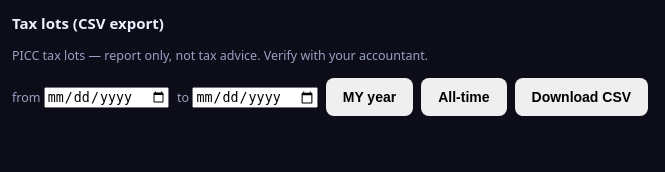
Test case: TaxLotsSection › download passes the picked period and surfaces self-transfer flags
Click the button with test id "tax-preset-my-year".
click(369, 97)  # box [326,78,413,116]
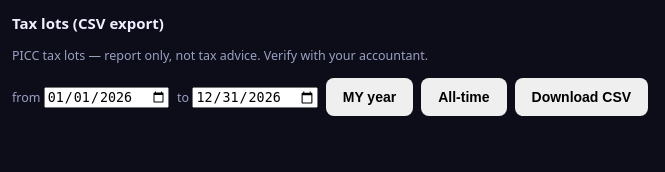
Click the button with test id "tax-download".
click(581, 97)  # box [514,78,648,116]
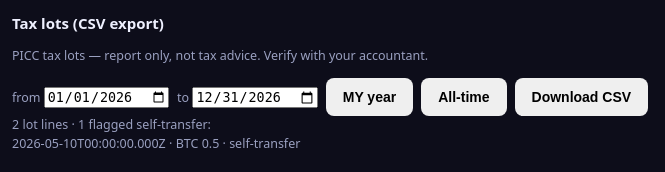
Expected: the element with test id "tax-summary" shows "2 lot lines", [12,116,300,152]
Expected: the number of list items with test id "tax-selftransfer-row" is 1, [12,135,300,152]
Expected: the list item with test id "tax-selftransfer-row" shows "BTC", [176,135,198,152]
